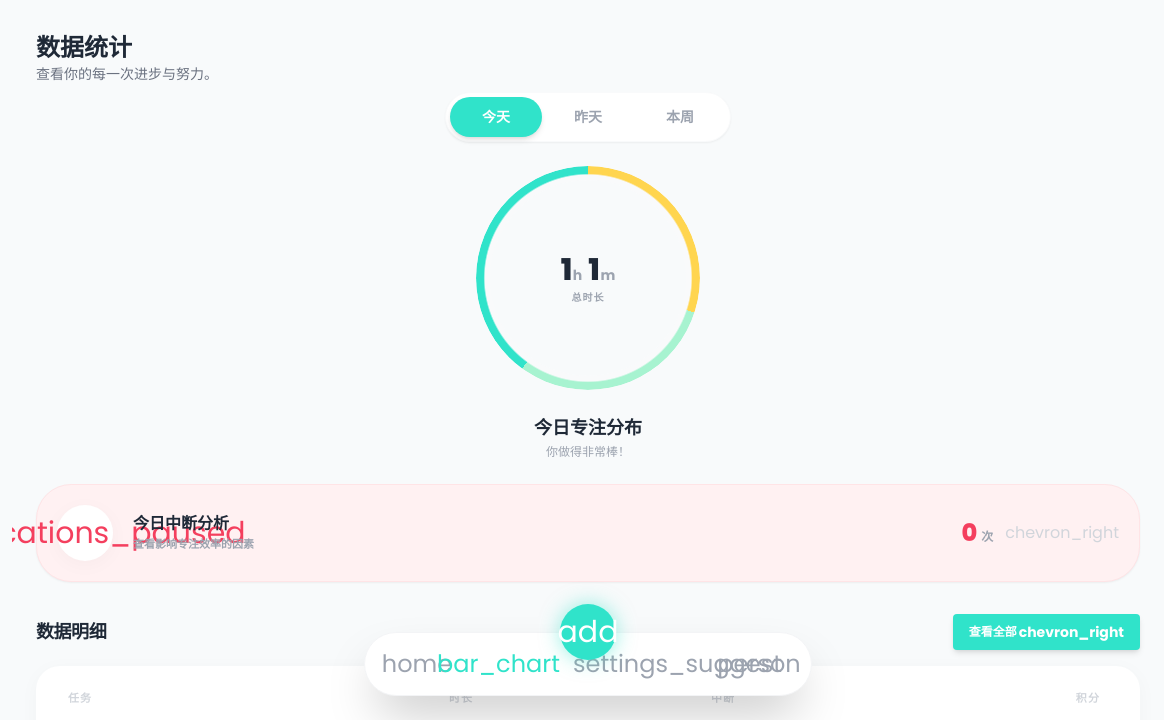
Test: Stats Page › updates the summary when a period button is clicked
This screenshot has width=1164, height=720.
Click the button "昨天": (588,117) [542,97,634,137]
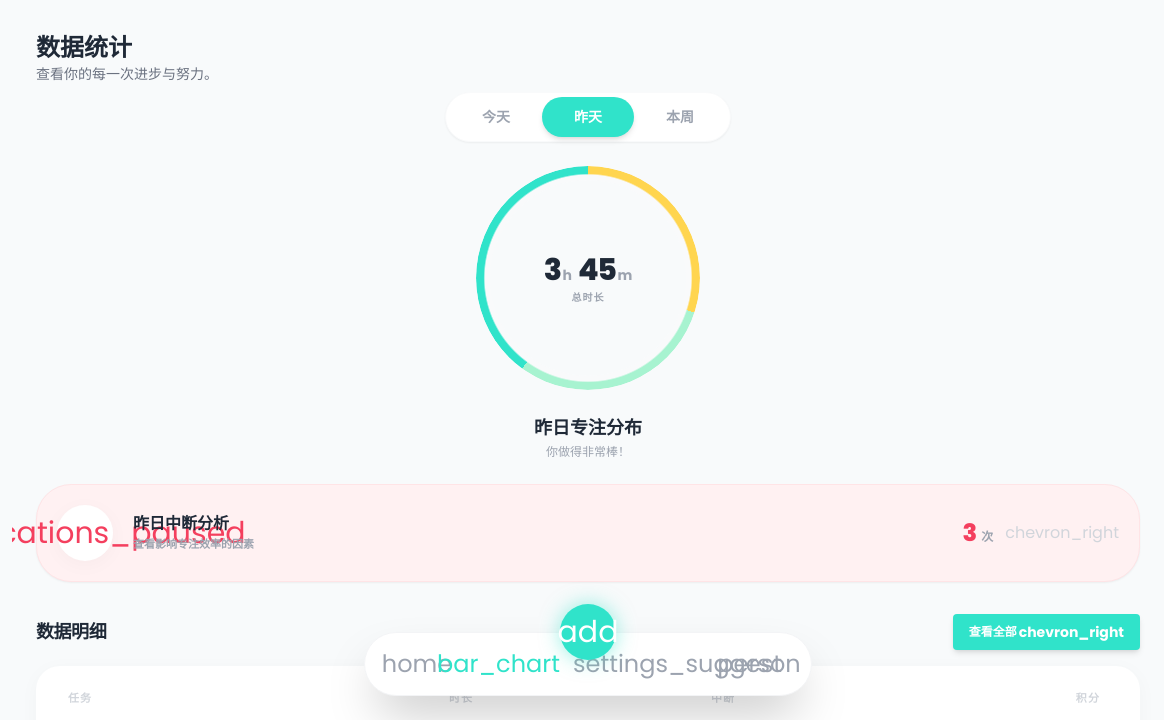
Expected: the text "45" is shown, [578,252,615,288]
// Click "本周"
Click the button "本周": (680,117) [634,97,726,137]
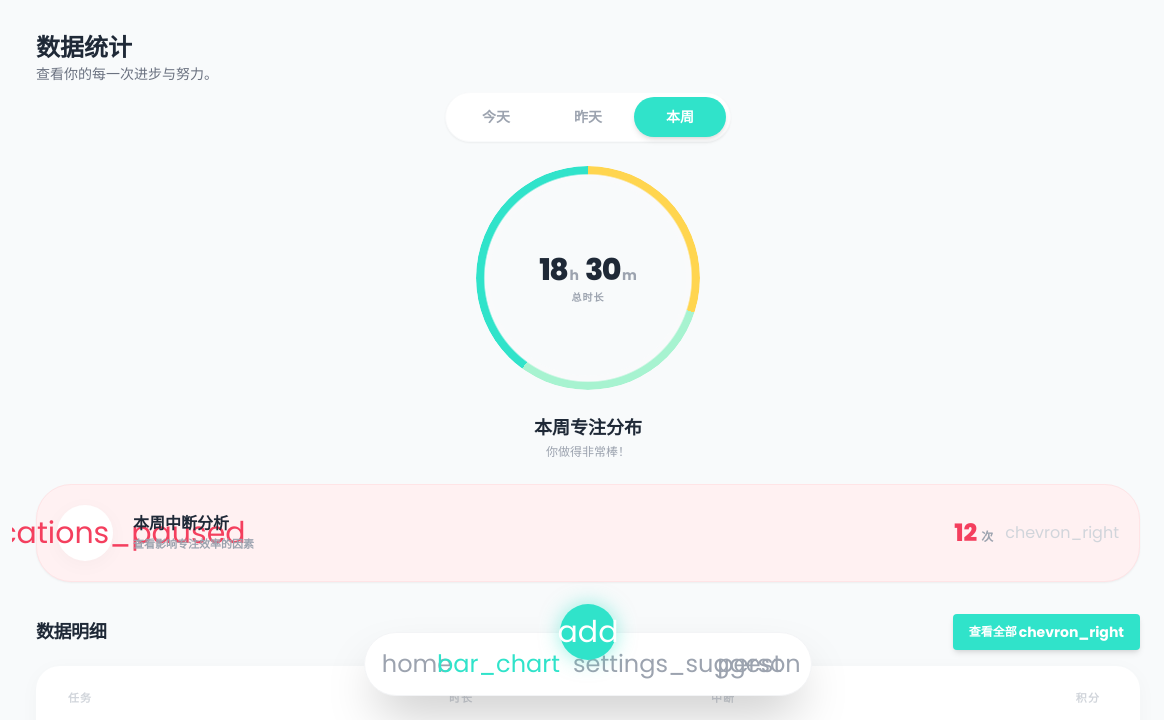
Expected: the text "18" is shown, [539,252,568,288]
Expected: the text "30" is shown, [585,252,620,288]
